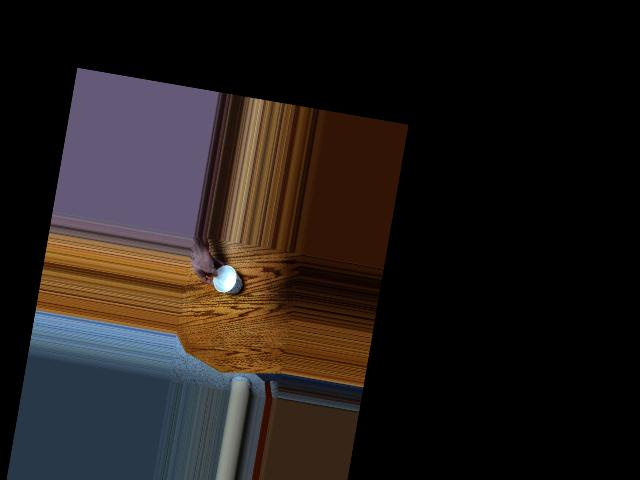cotage: (206, 262, 242, 297)
